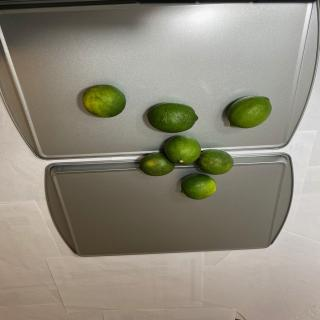Lemon: (147, 102, 198, 133), (227, 95, 272, 129), (82, 84, 126, 118), (164, 135, 201, 165), (180, 173, 217, 200), (197, 148, 234, 174), (139, 152, 175, 177)
